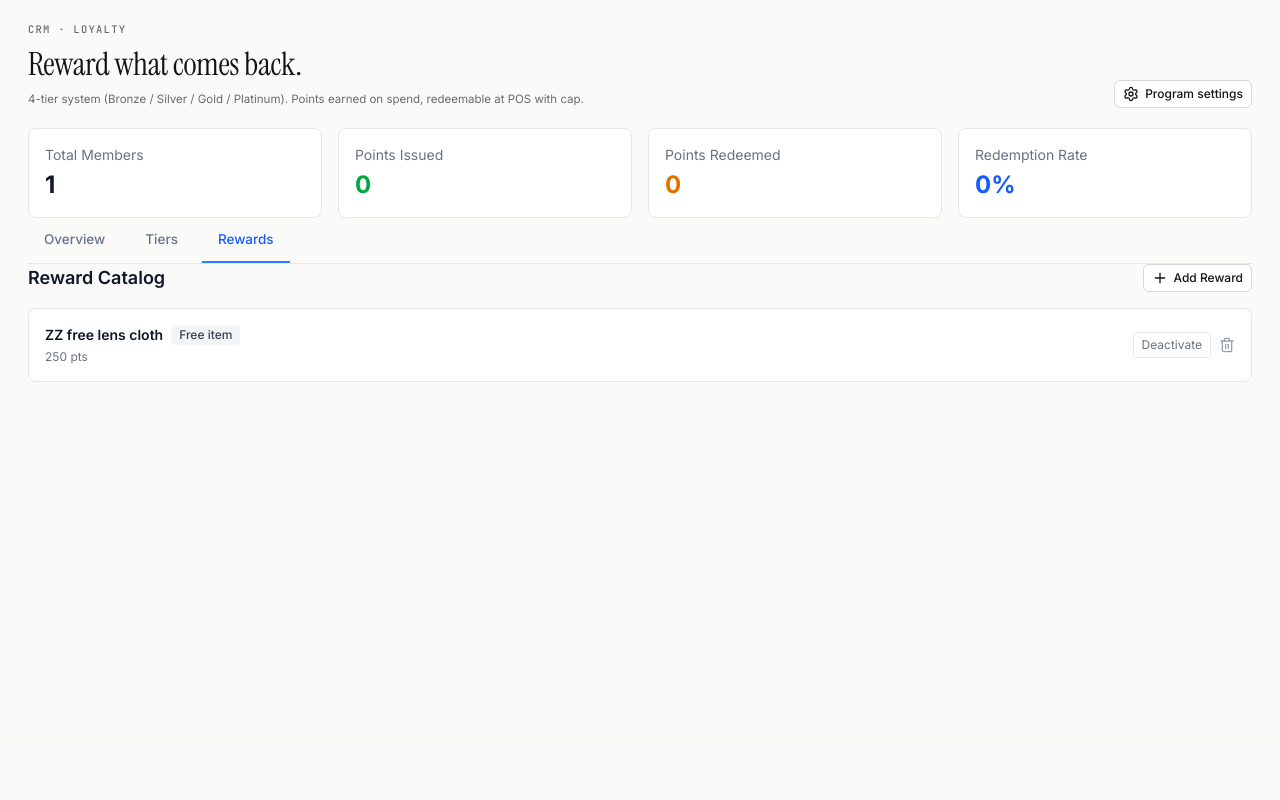
Test: add reward › creates it, puts it first in the list, closes the form and toasts
expect the text "ZZ free lens cloth" is shown: met, box 45,325 -> 163,345
Click the button "Add Reward": (1197, 278) 1142,264 -> 1252,292
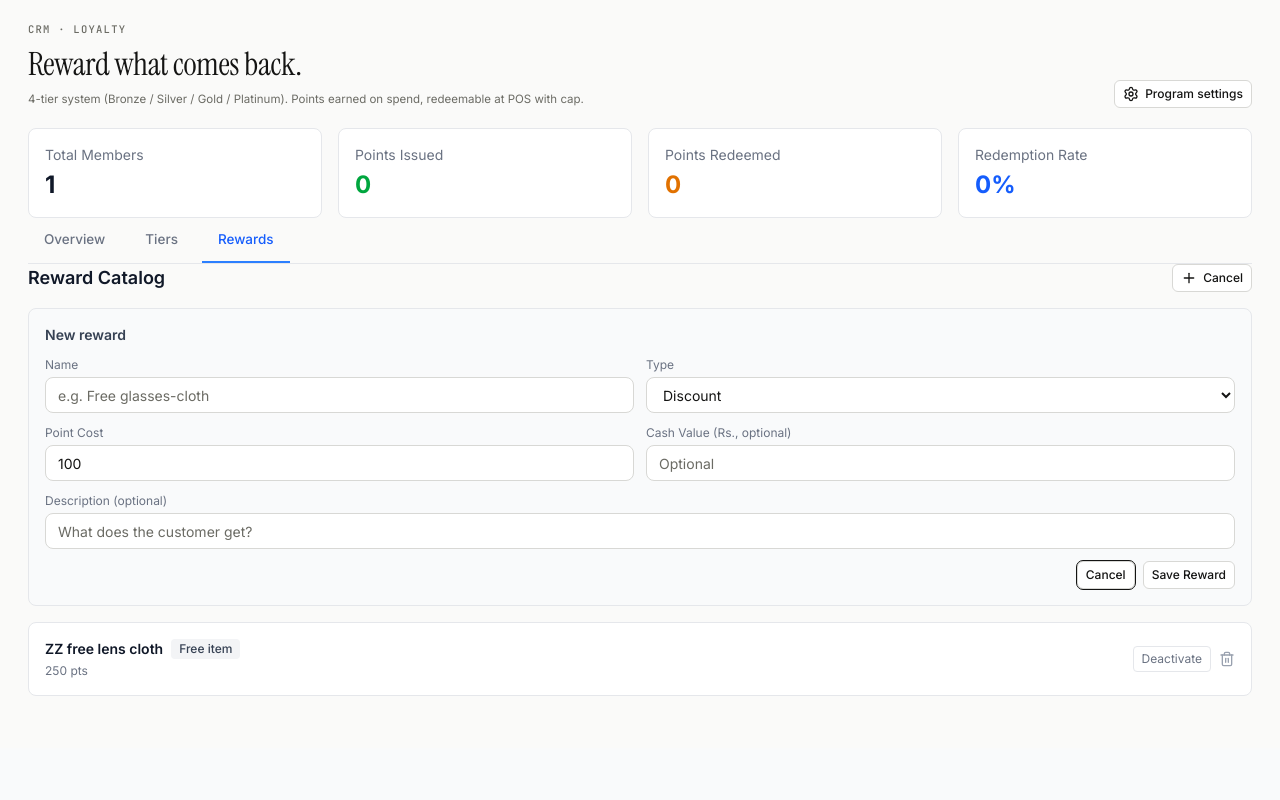
In the field with placeholder "e.g. Free glasses-cloth": (340, 395) 45,377 -> 634,413, type "ZZ new voucher"
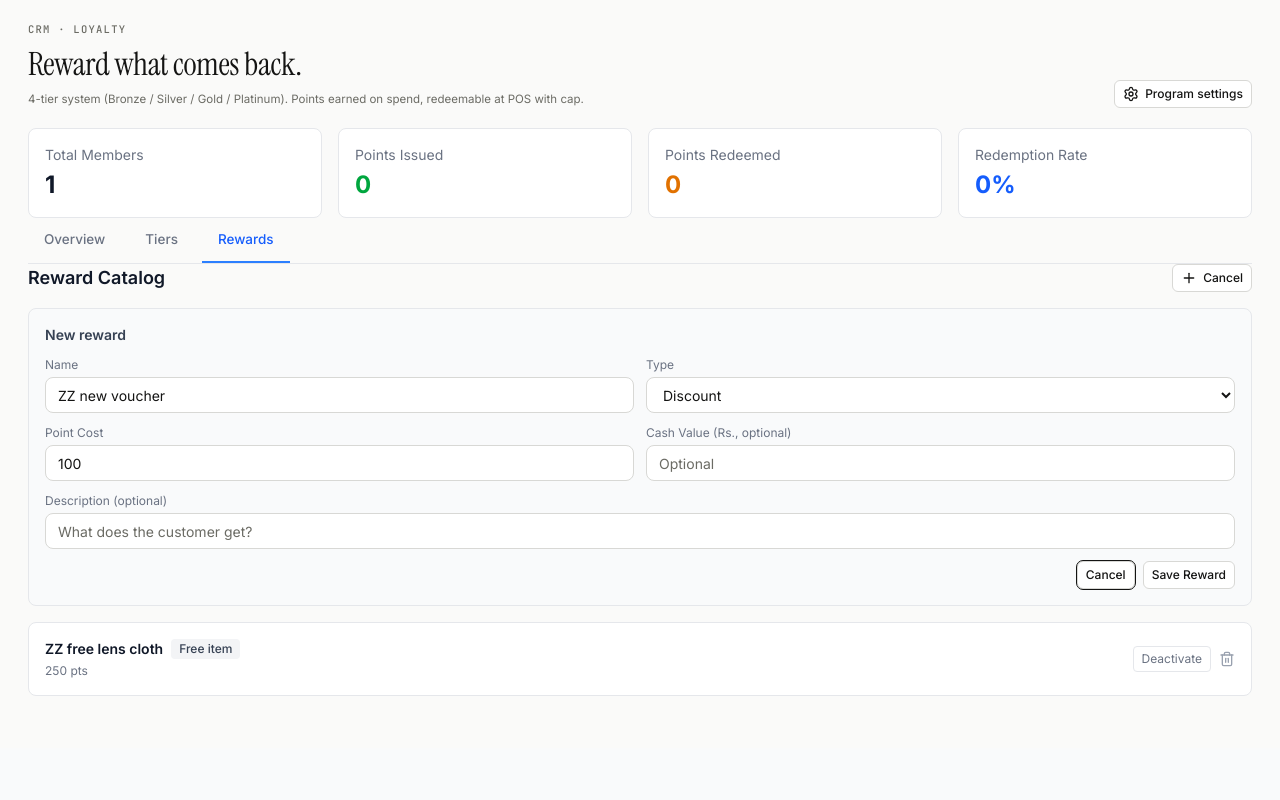
Click the button "Save Reward": (1189, 575) 1143,561 -> 1235,589
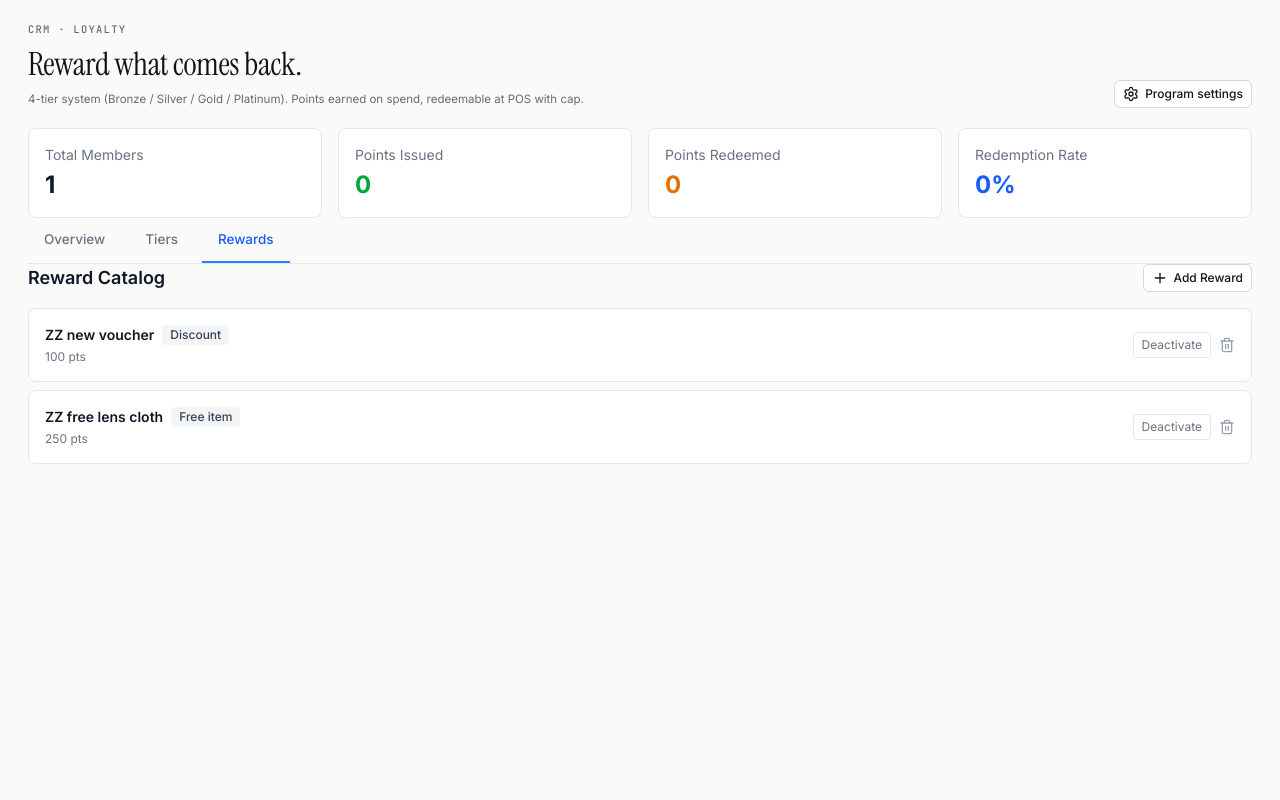
expect the text "ZZ new voucher" is shown: met, box 45,325 -> 154,345
expect the text "New reward" is gone: met
